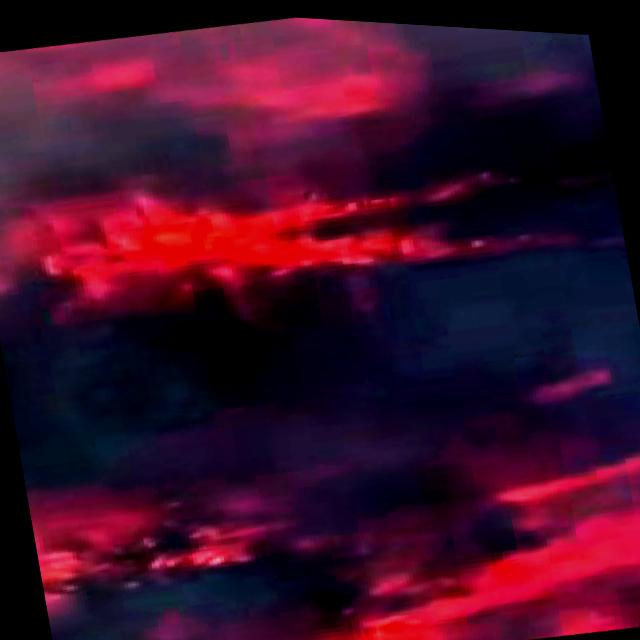fire: (16, 330, 640, 640), (0, 98, 592, 393), (0, 0, 599, 200)
